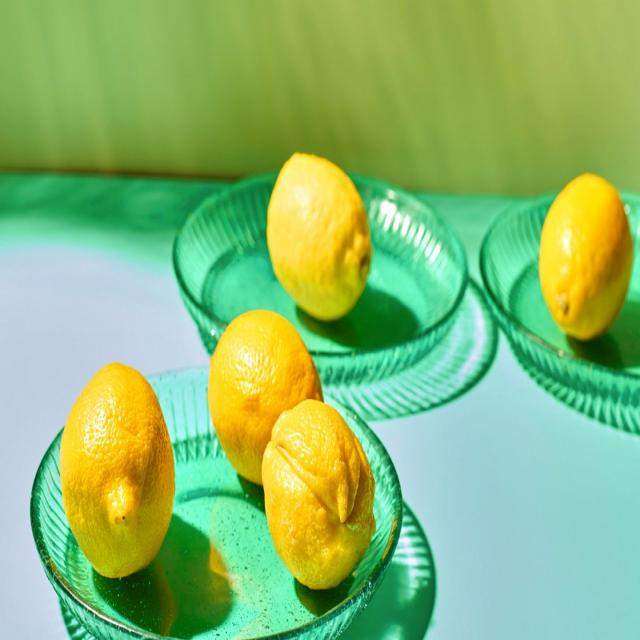lemon: (59, 363, 174, 569), (262, 398, 376, 591), (208, 311, 323, 485), (268, 154, 372, 322), (538, 173, 631, 340)
